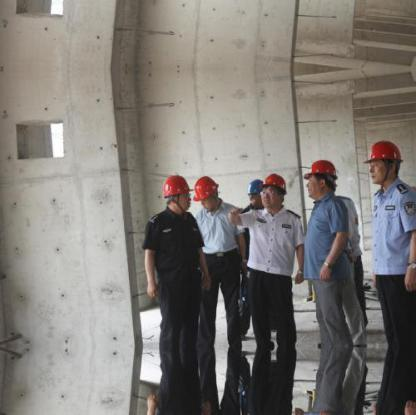helmet: (364, 140, 401, 165), (258, 166, 289, 194), (195, 172, 221, 200), (305, 159, 336, 180), (161, 175, 189, 197), (247, 178, 262, 192)
